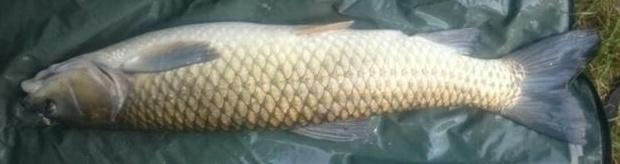Grass Carp: (21, 6, 597, 164)
